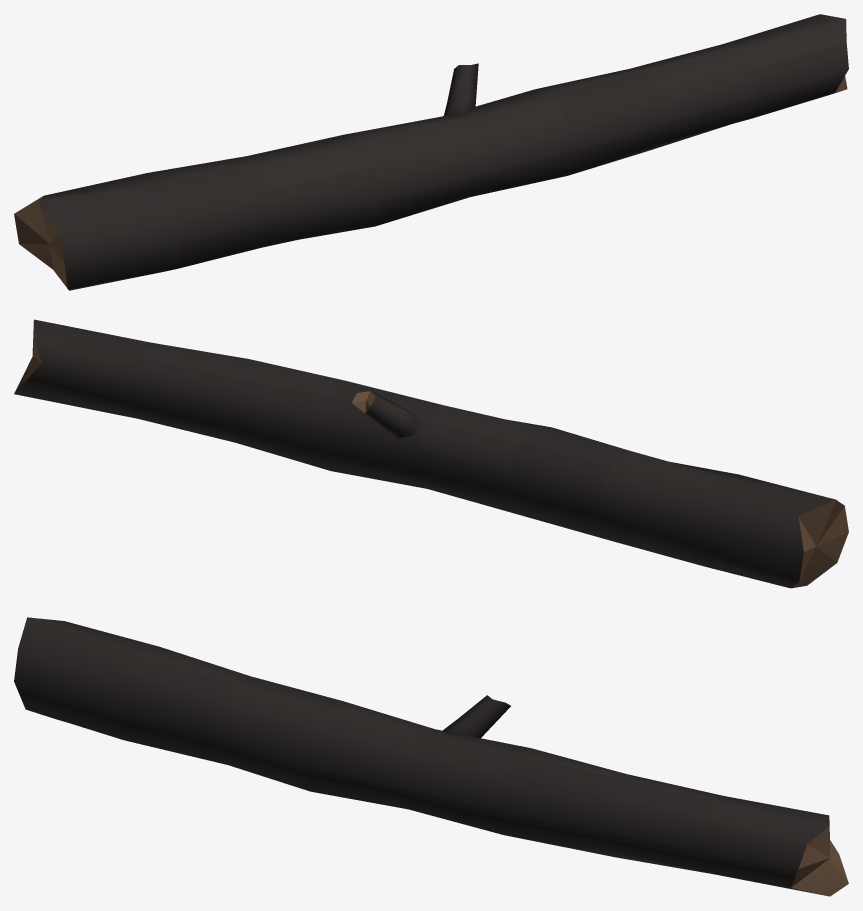
Rendered from obj_tronco_caido.glb.
3 renders of one model, top to bottom at view 1: azimuth 30°, elevation 25°; view 2: azimuth 150°, elevation 25°; view 3: azimuth 330°, elevation 25°, orthographic.
Parts seen in each view (by area): view 1: propforge-libre-tronco_caido; view 2: propforge-libre-tronco_caido; view 3: propforge-libre-tronco_caido.
Part boxes in pixels (bbox=[...]): propforge-libre-tronco_caido: bbox=[14, 14, 848, 290]; propforge-libre-tronco_caido: bbox=[14, 319, 848, 588]; propforge-libre-tronco_caido: bbox=[14, 617, 848, 896].
Bounding box in the file's own units: 2.17 × 0.2775 × 0.2751.
